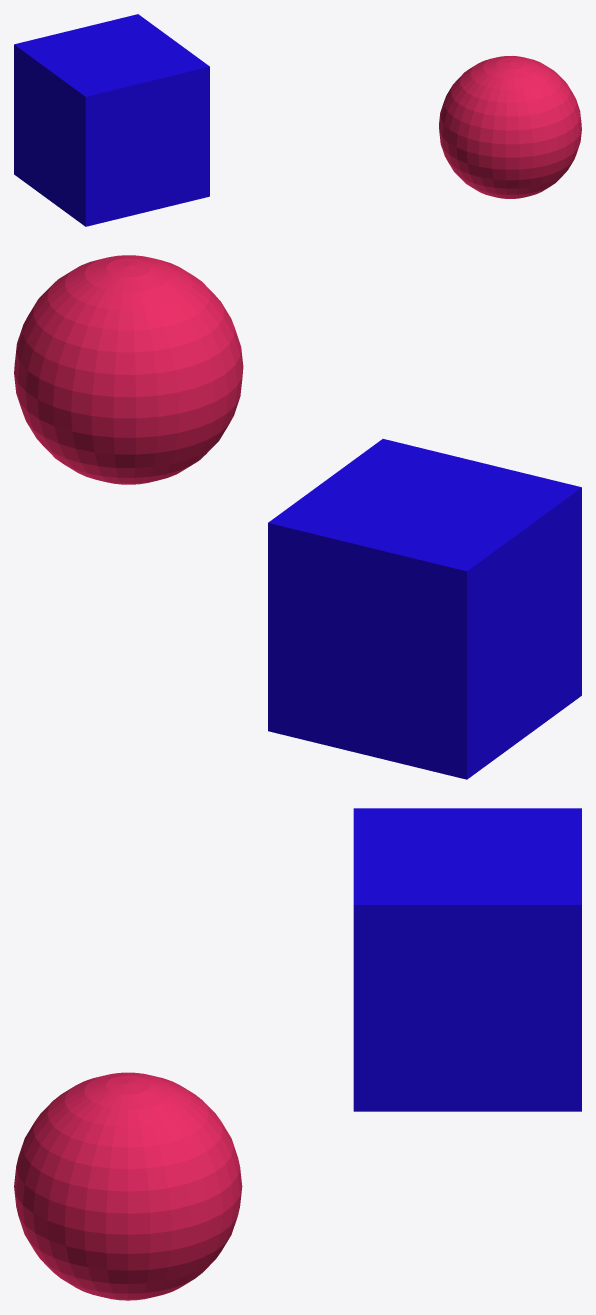
Rendered from DemoAnimation.glb.
3 views of the same model, one above another, from view 1: azimuth 30°, elevation 25°; view 2: azimuth 150°, elevation 25°; view 3: azimuth 270°, elevation 25° (orthographic). The views are drawn at different scales.
Visible parts, largest first — view 1: Cube, Sphere; view 2: Cube, Sphere; view 3: Cube, Sphere.
Part boxes in pixels (box(x1,y1,x2,y2)): Cube: box(14, 14, 209, 226); Sphere: box(439, 56, 581, 198); Cube: box(268, 439, 581, 779); Sphere: box(14, 255, 243, 484); Cube: box(353, 808, 581, 1111); Sphere: box(14, 1072, 242, 1300).
Size of what is drawn, in the model's own units: 6.69 by 2 by 4.98.
